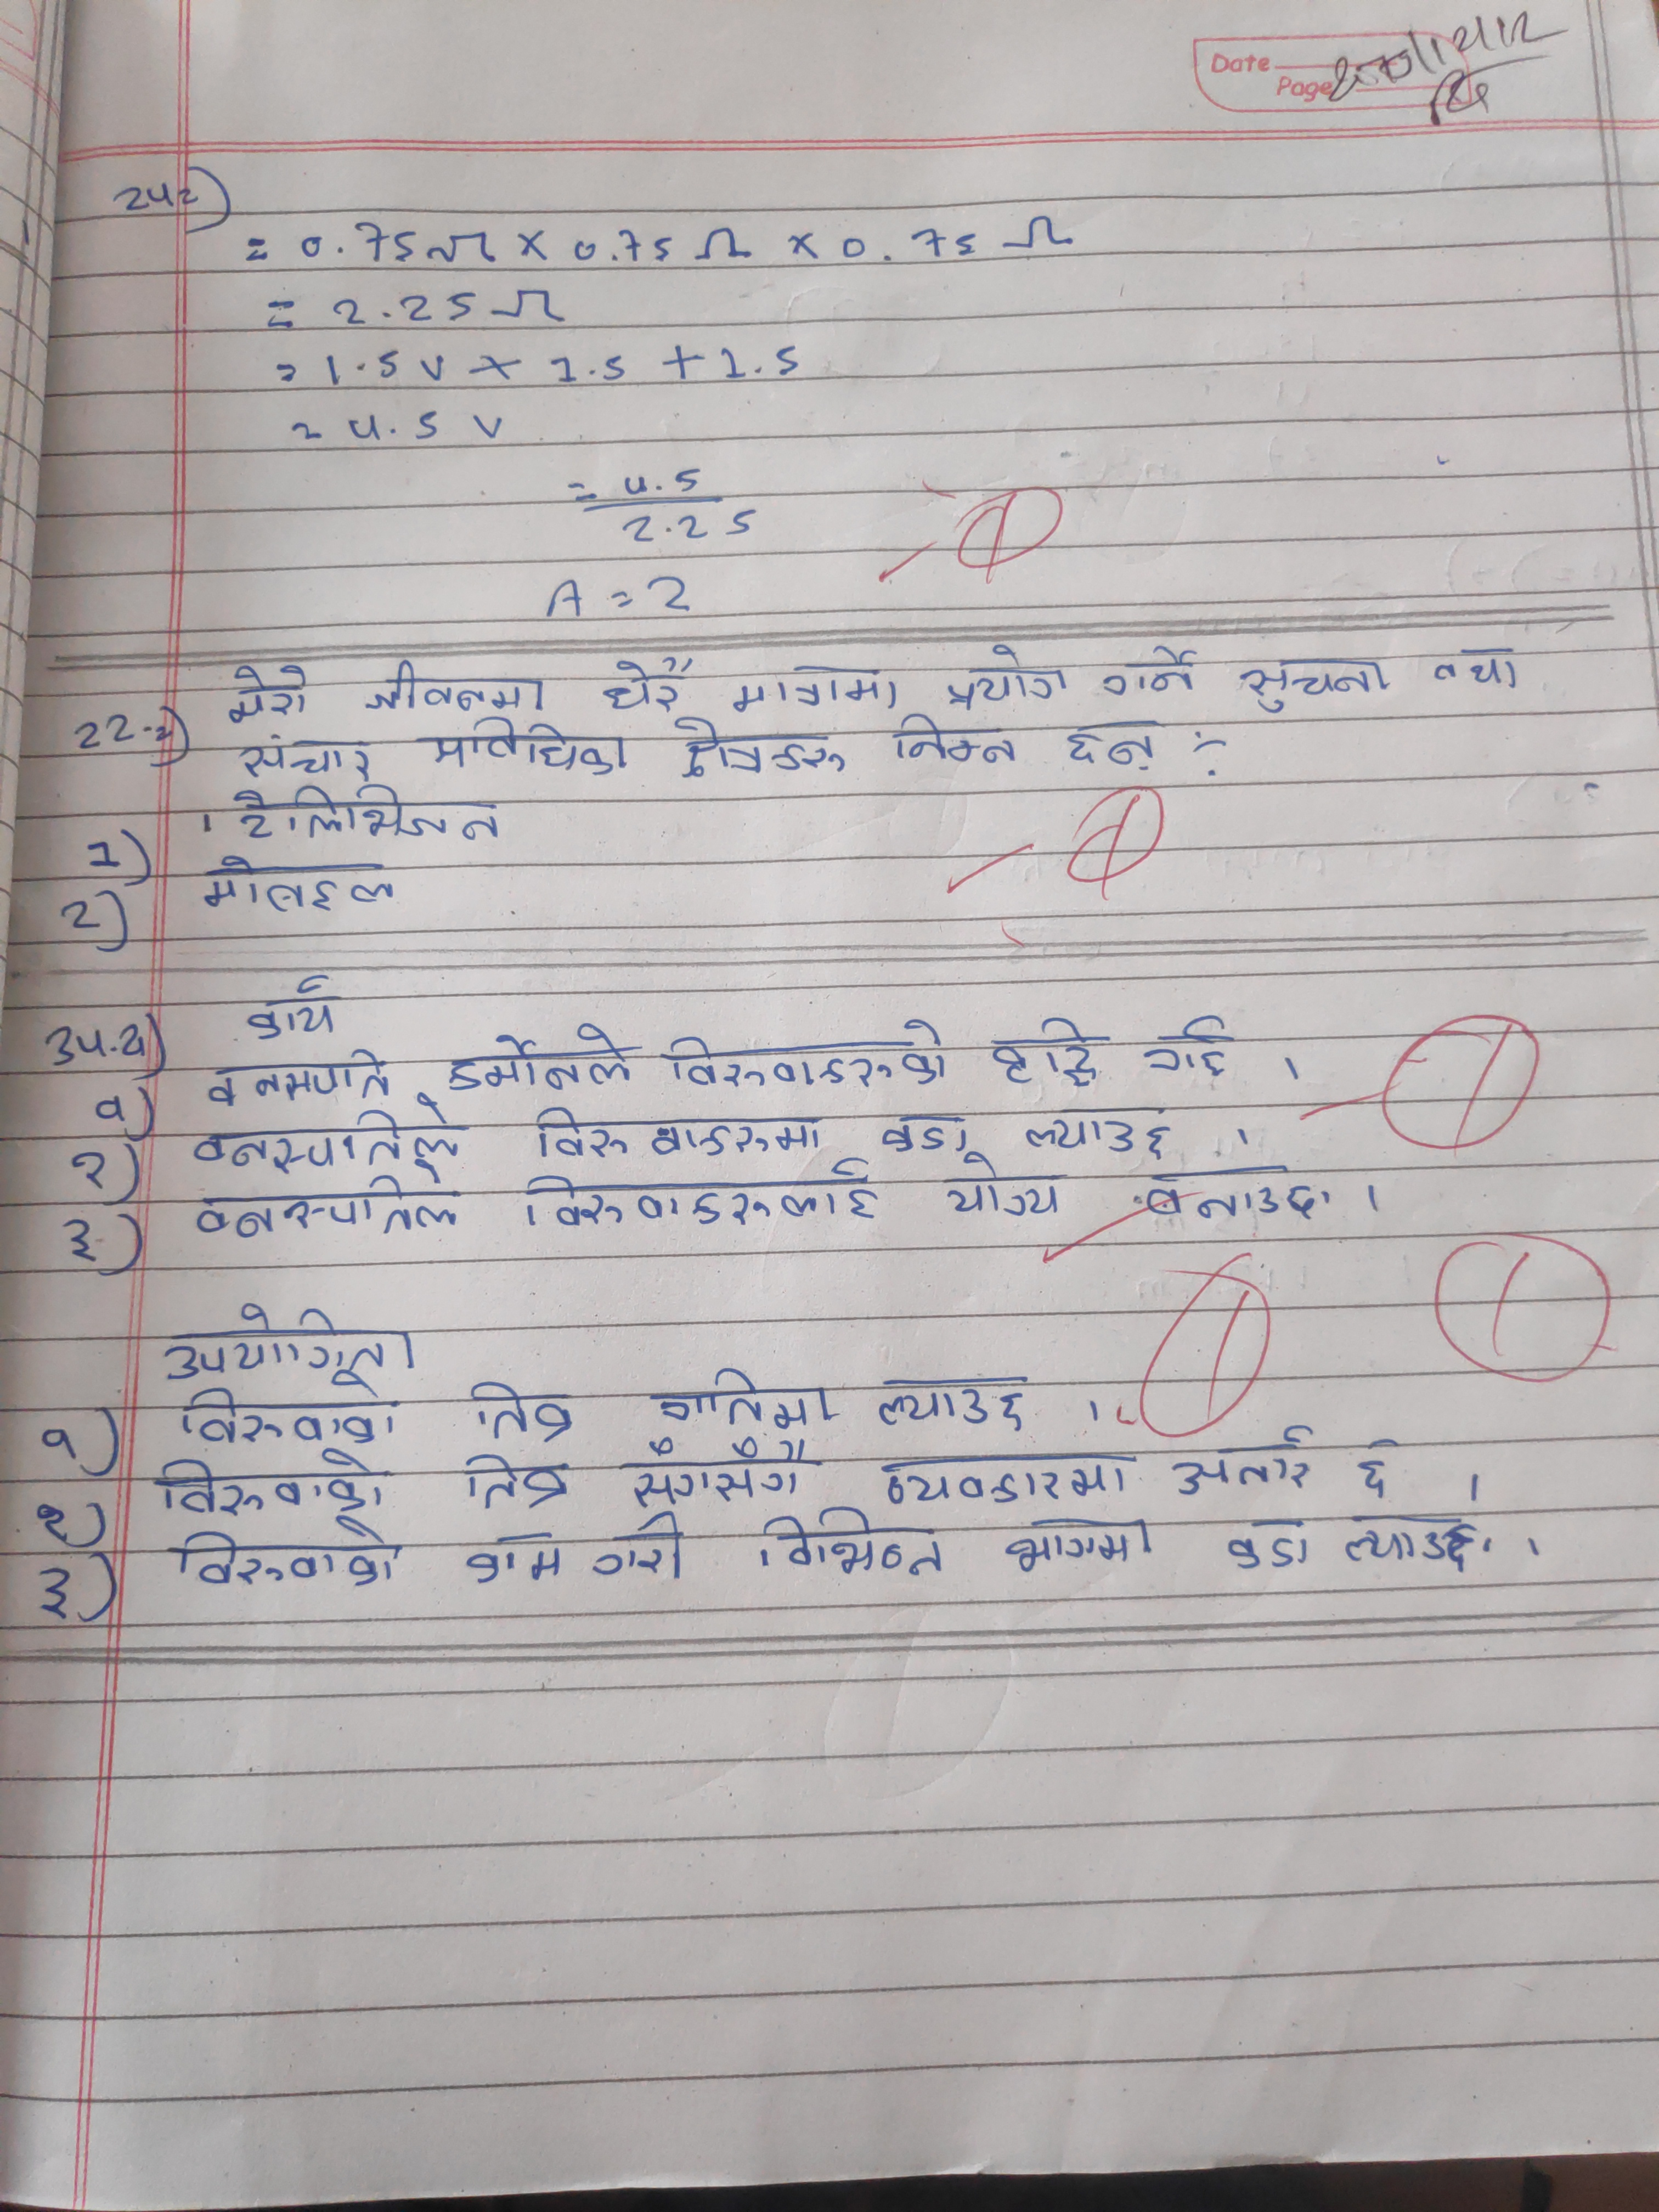text: (660, 1021, 955, 1097), (516, 1172, 889, 1231), (157, 1298, 418, 1381), (195, 1163, 462, 1244), (173, 1514, 404, 1594), (525, 1104, 830, 1162), (186, 1109, 471, 1170), (146, 1446, 387, 1515), (234, 786, 505, 846), (1134, 1162, 1345, 1233), (173, 1385, 406, 1449), (875, 1454, 1141, 1510), (744, 1514, 945, 1585), (418, 719, 634, 782), (624, 1442, 816, 1510), (448, 1024, 638, 1092), (669, 712, 849, 782), (655, 1366, 840, 1430), (357, 655, 551, 714), (1236, 653, 1406, 719), (195, 857, 401, 911), (1175, 1423, 1314, 1501), (197, 1050, 399, 1103), (870, 1369, 1037, 1432), (1338, 1507, 1486, 1575), (727, 664, 906, 716), (1007, 1510, 1152, 1575), (985, 1014, 1103, 1090), (1019, 1104, 1173, 1163), (941, 648, 1075, 712), (235, 733, 383, 791), (941, 1158, 1068, 1223), (455, 1529, 575, 1592), (884, 711, 1021, 765), (464, 1379, 579, 1442), (1061, 714, 1173, 779), (460, 1453, 575, 1514), (591, 1517, 694, 1585), (244, 975, 343, 1042), (592, 650, 695, 712), (1143, 1012, 1236, 1080), (1222, 1512, 1317, 1573), (1424, 643, 1534, 695), (220, 665, 312, 726), (1100, 648, 1204, 700), (871, 1104, 971, 1155), (1354, 1440, 1398, 1500)
